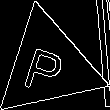P_N: (24, 36, 73, 95)
